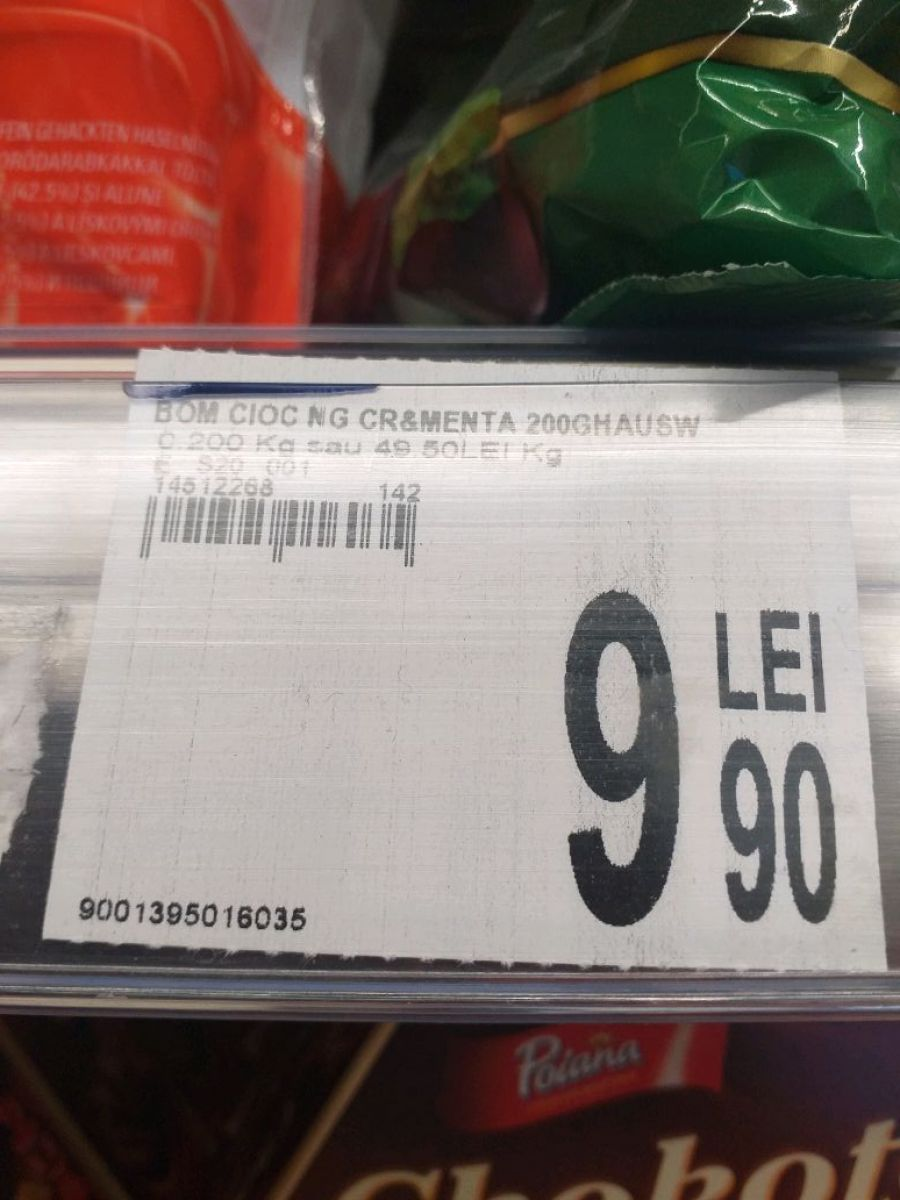bardcode: (74, 893, 310, 941)
list: (36, 345, 886, 974)
name: (155, 393, 709, 442)
price: (547, 583, 853, 931)
